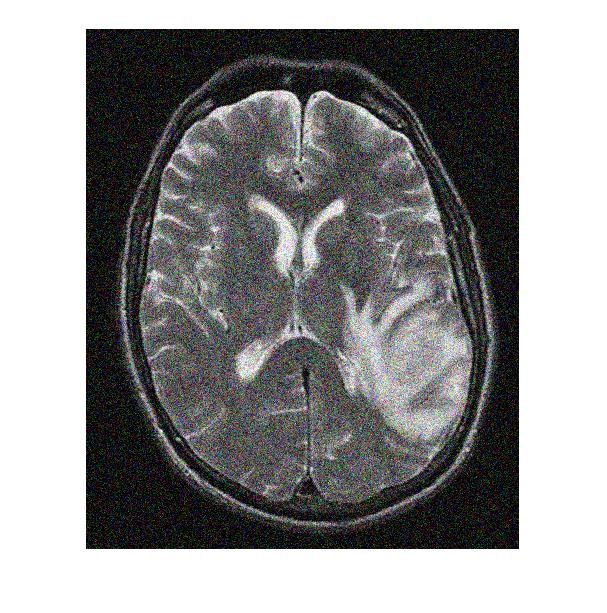Brain_Cancer: (349, 298, 467, 430)
